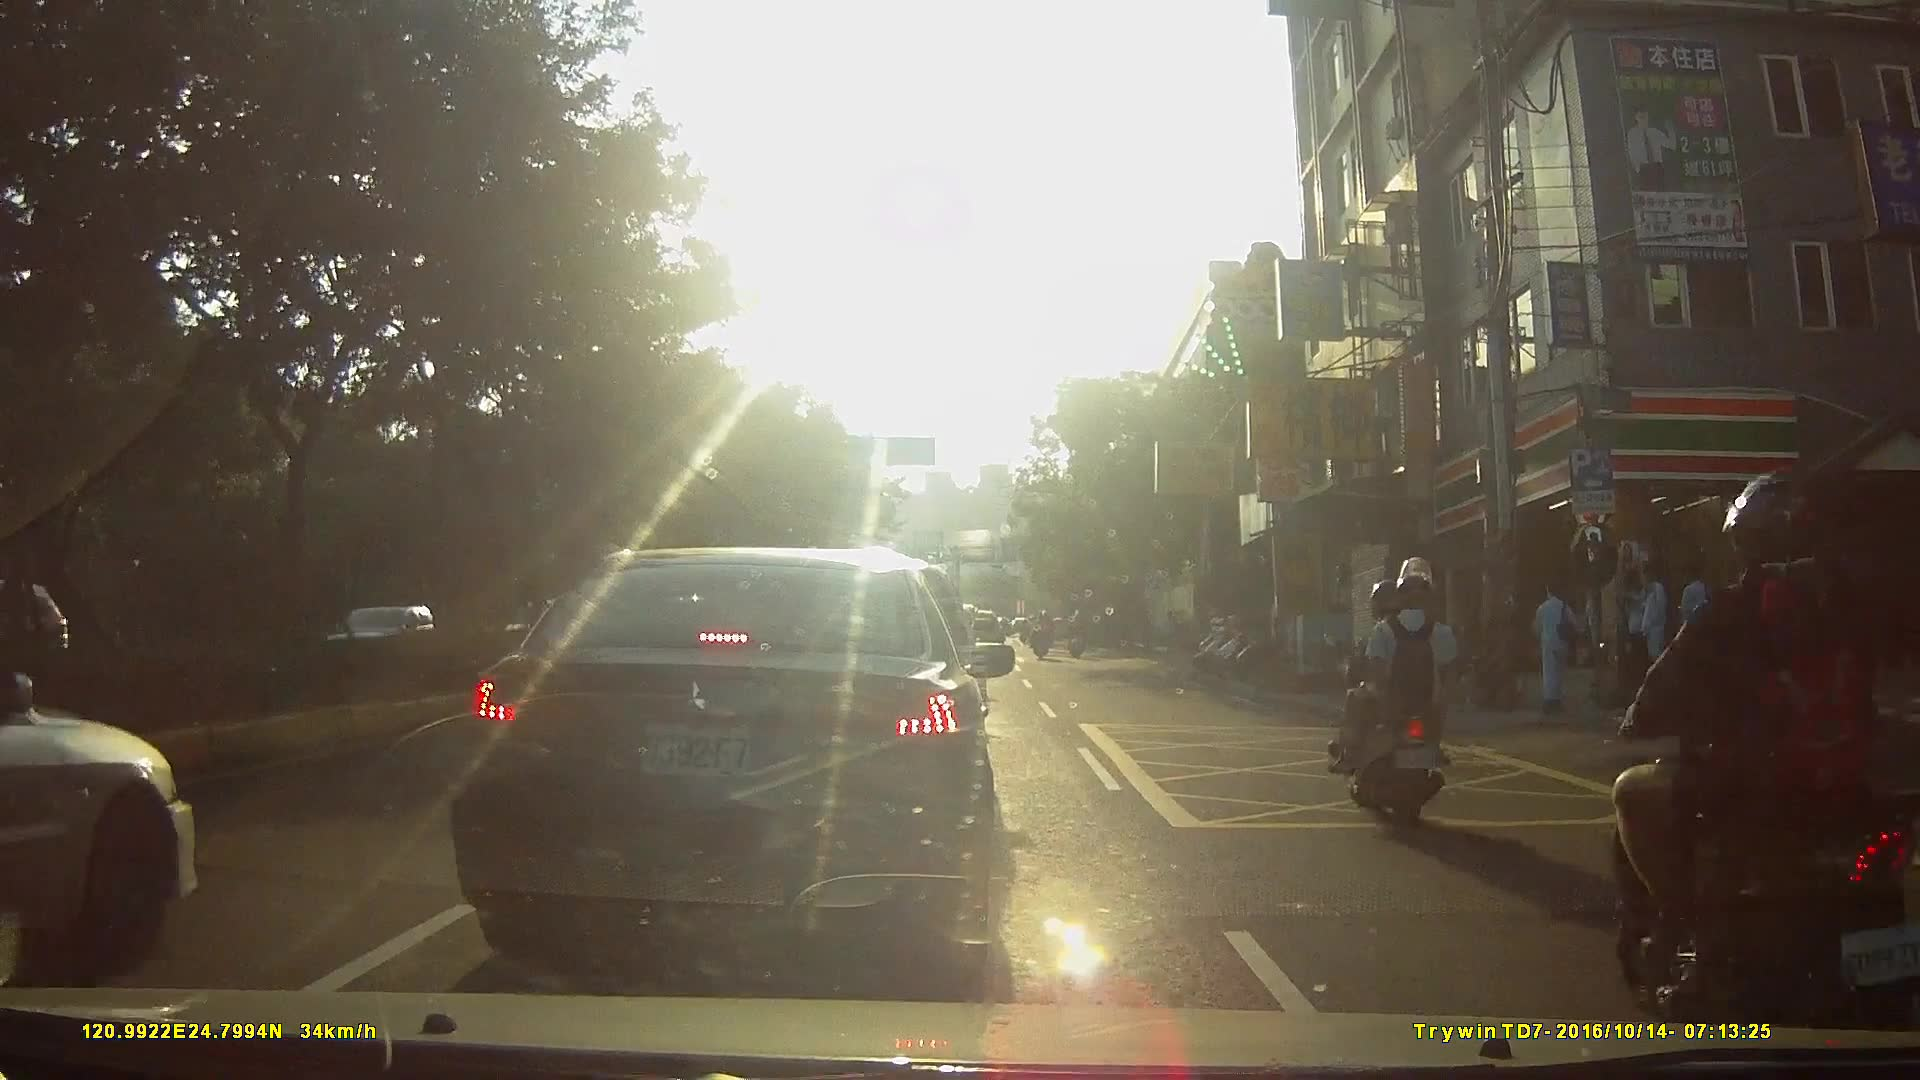pedestrian: (1769, 567, 1847, 829), (1799, 584, 1873, 780), (1534, 579, 1588, 715), (1625, 565, 1667, 691), (1679, 565, 1722, 683), (1618, 568, 1649, 699)
rider: (1611, 474, 1920, 1068), (1330, 557, 1465, 823), (1032, 608, 1053, 663), (1065, 613, 1087, 663)
vehicle: (454, 537, 1041, 972), (1, 656, 218, 987)
